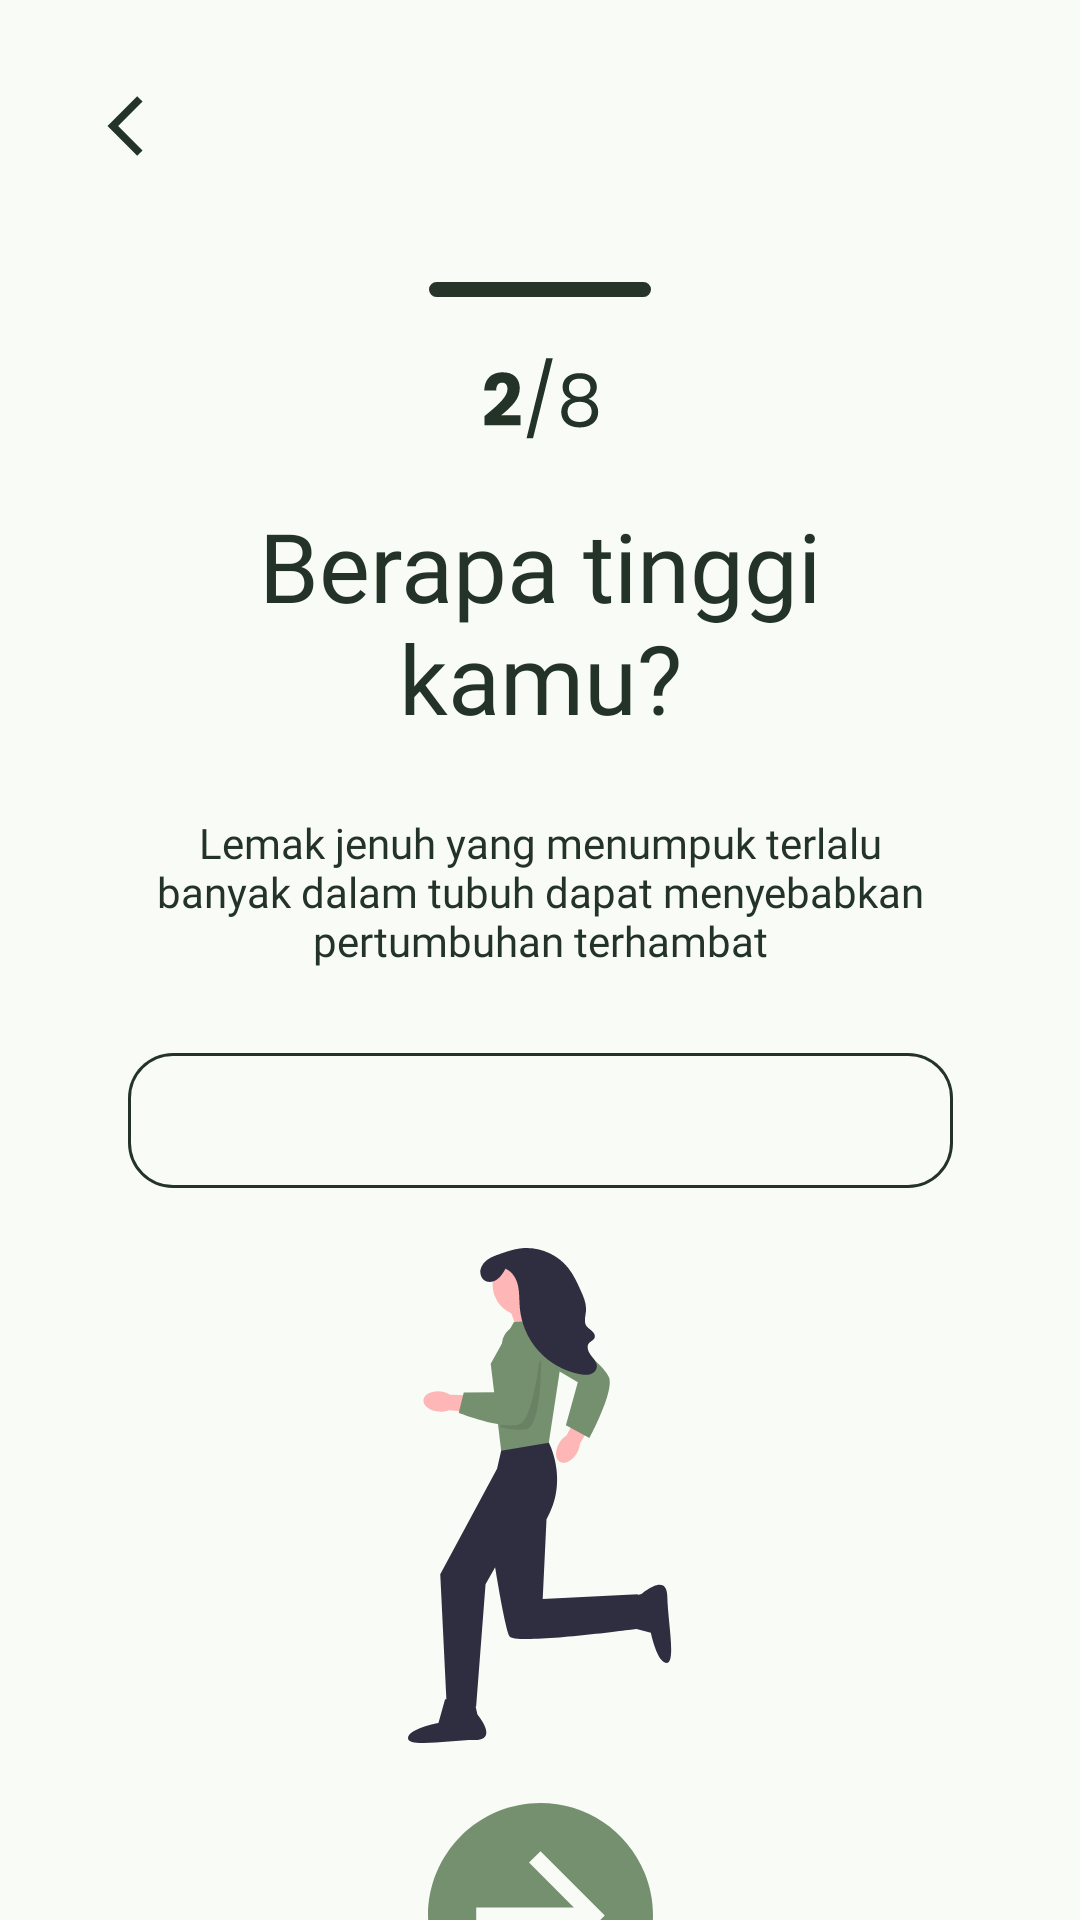

Named icons in this screenshot (1080px×1920px) and their bounding boxes, Rect(x1, y1, x2, y2):
back: Rect(108, 96, 143, 156)
